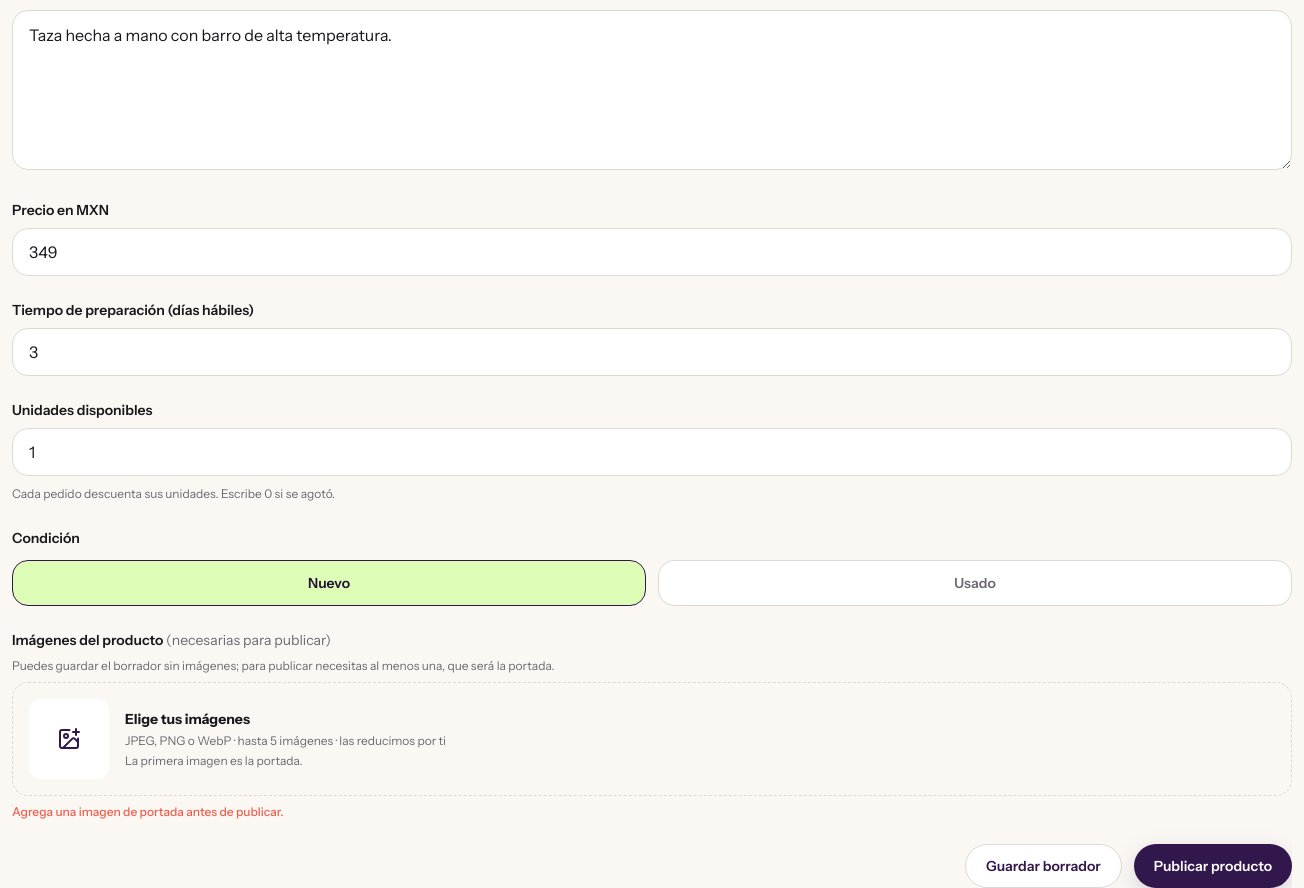
Scenario: ProductForm › shows a publish success with the verified public URL and sharing actions
This screenshot has width=1304, height=888.
(page scrolled)
Click the button "Publicar producto": (1213, 866) x1=1134 y1=844 x2=1292 y2=887
(page scrolled)
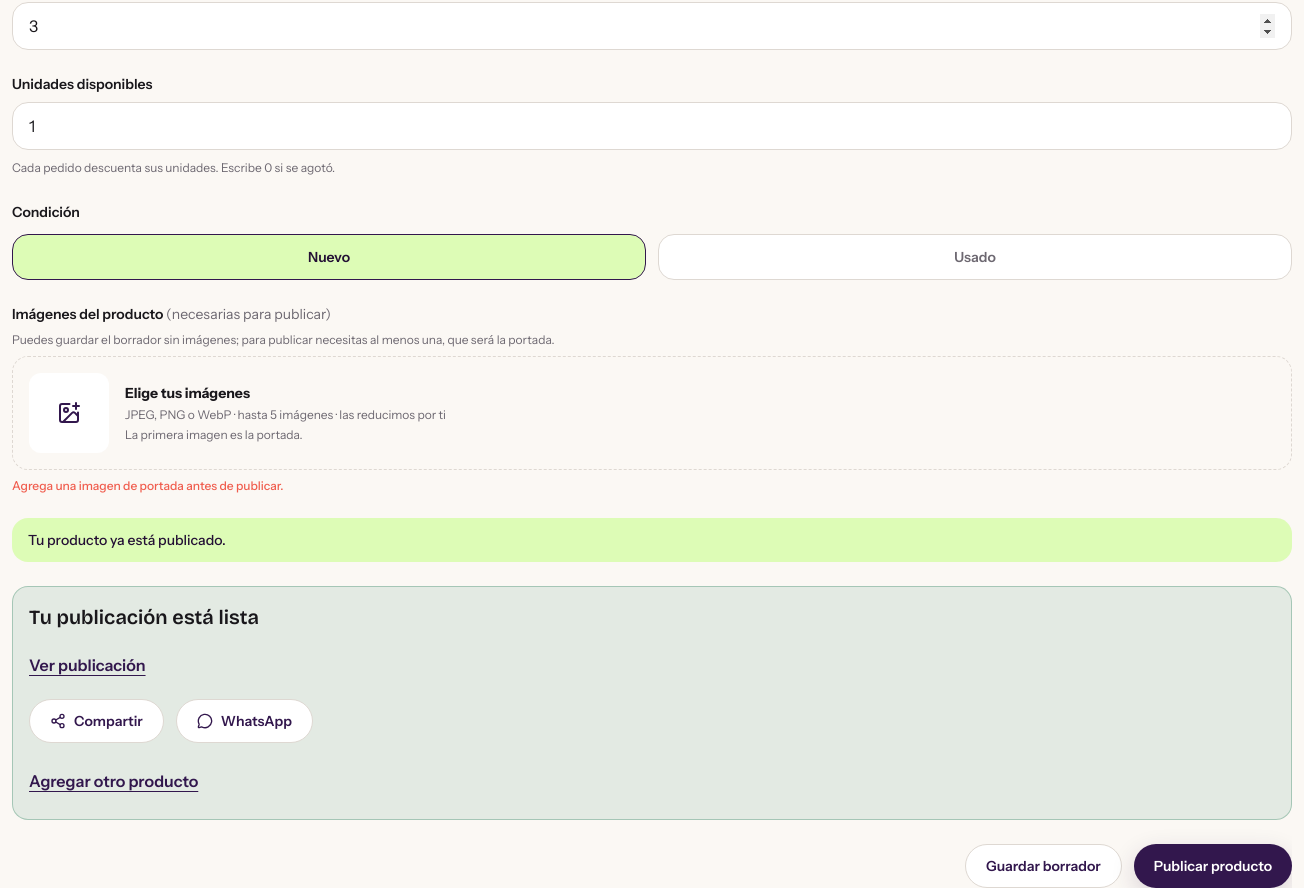
Now the text "Tu producto ya está publicado." is shown, box x1=12 y1=518 x2=1292 y2=562
Now the element named "Compartir producto" is shown, box x1=29 y1=699 x2=313 y2=743
